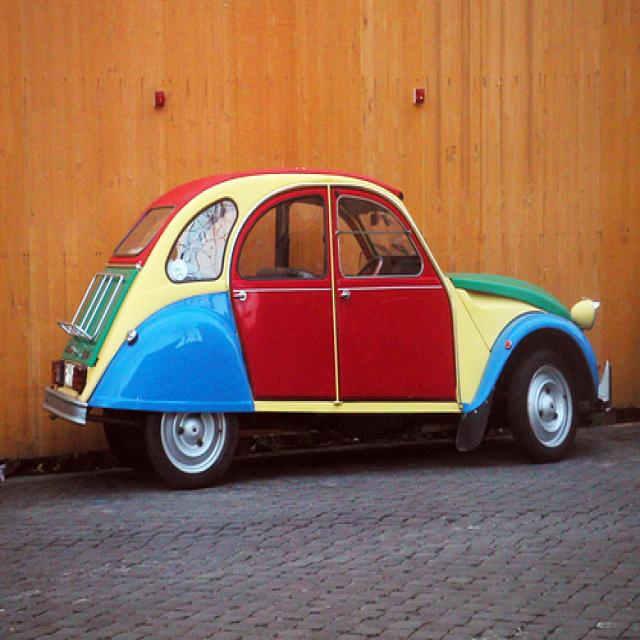Car: (40, 167, 610, 493)
